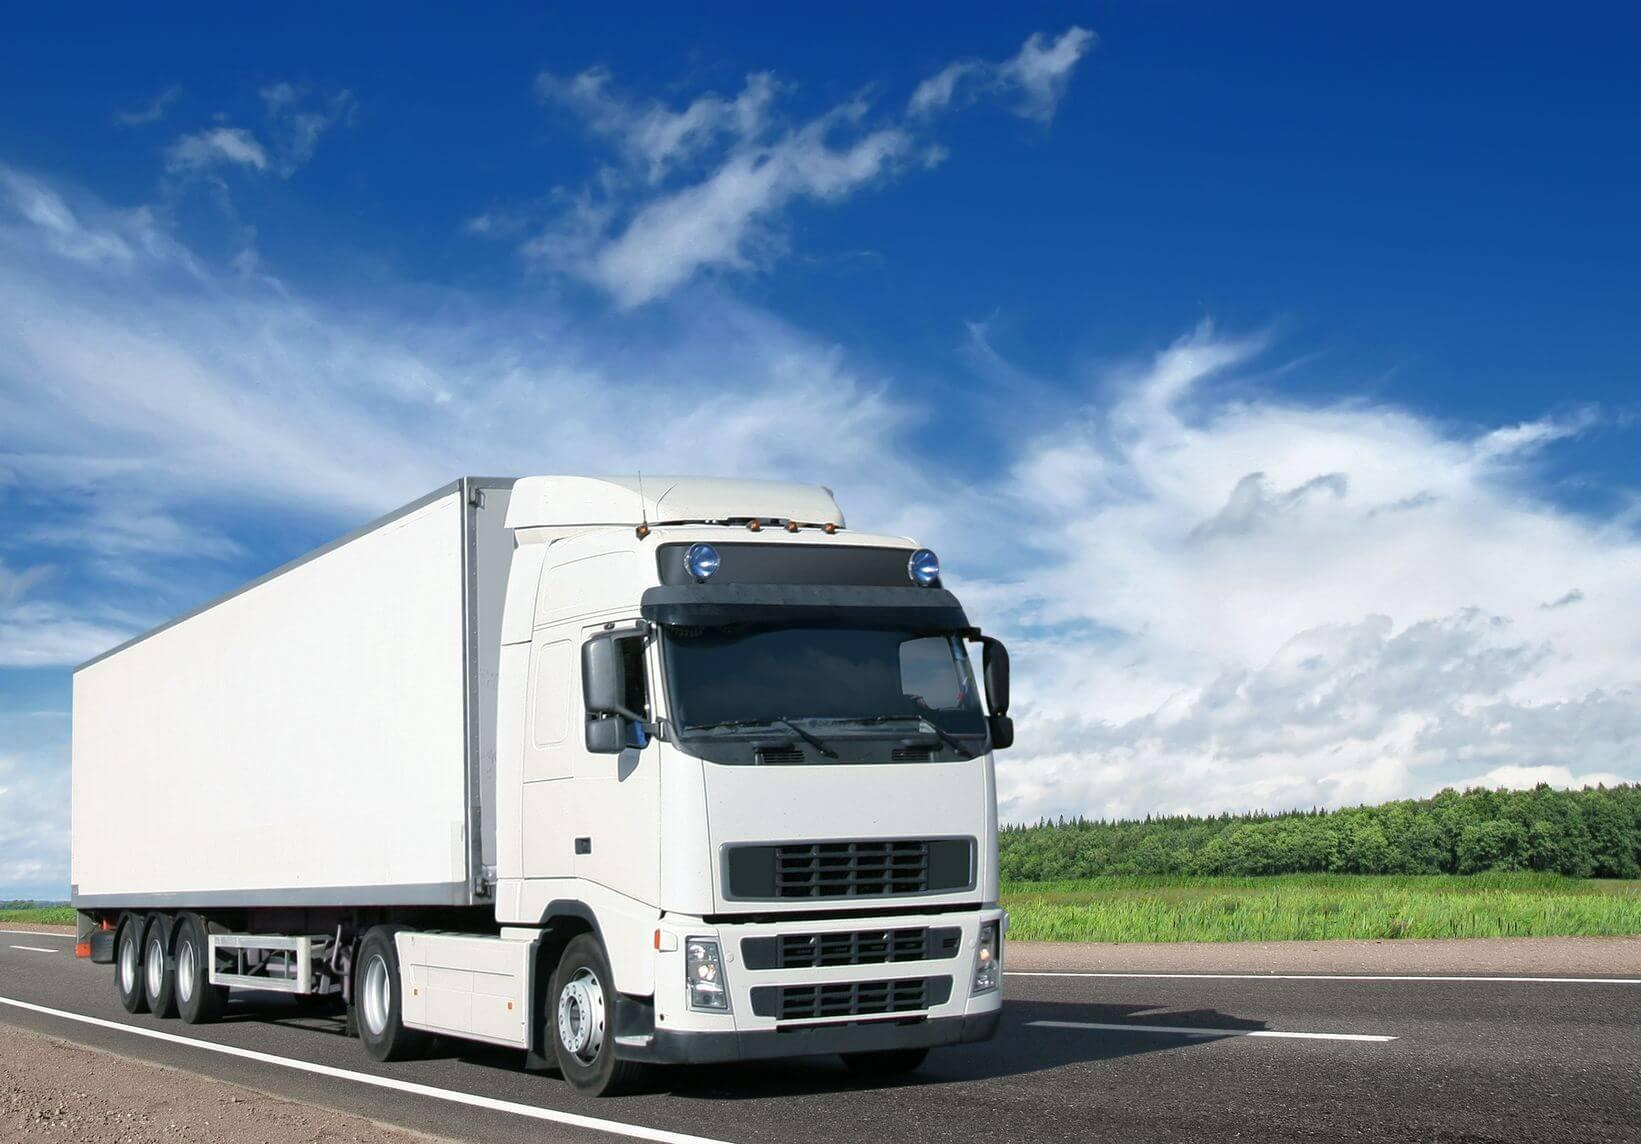truck: (68, 470, 1014, 1097)
